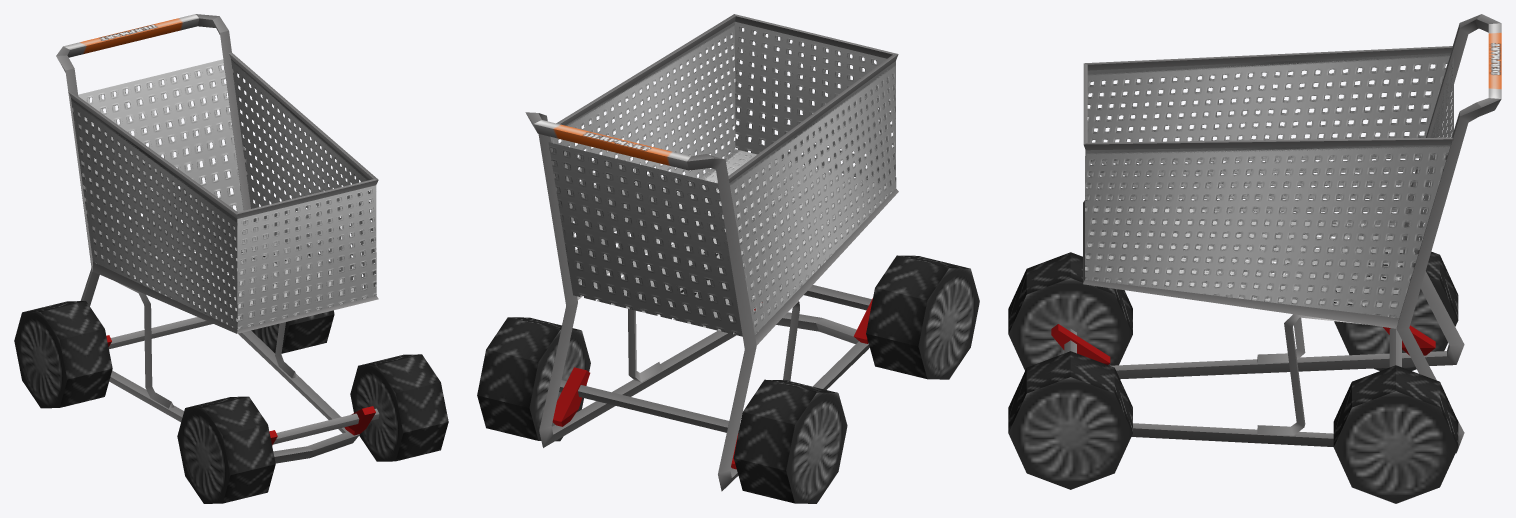
File: Cart_Drifter.fbx
3 views of the same model, side by side, from view 1: azimuth 30°, elevation 25°; view 2: azimuth 150°, elevation 25°; view 3: azimuth 270°, elevation 25° (orthographic). The views are drawn at different scales.
Parts seen in each view (by area): view 1: polySurface84; view 2: polySurface84; view 3: polySurface84.
Part boxes in pixels (x1=…): polySurface84: x1=14, y1=14, x2=448, y2=503; polySurface84: x1=477, y1=14, x2=979, y2=503; polySurface84: x1=1008, y1=14, x2=1501, y2=503.
Size of the model in its own units: 0.8707 by 0.9746 by 1.19.
